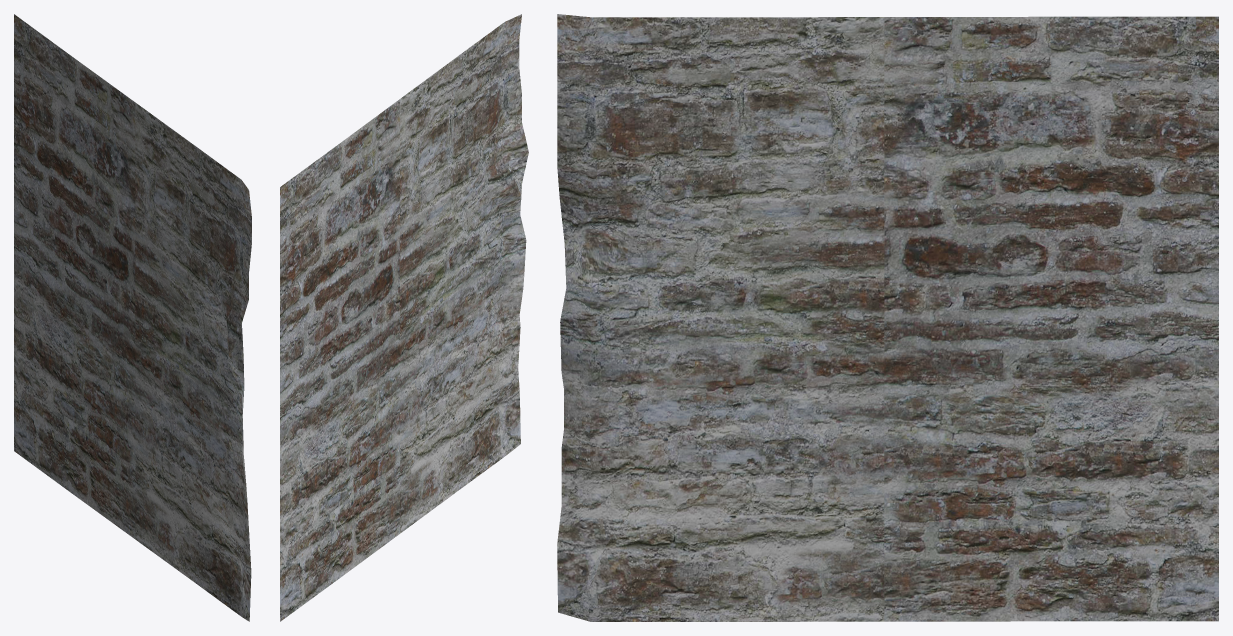
Rendered from 2dwall_leftside.FBX.
3 renders of one model, left to right at view 1: azimuth 30°, elevation 25°; view 2: azimuth 150°, elevation 25°; view 3: azimuth 270°, elevation 25°, orthographic. The views are drawn at different scales.
Visible parts, largest first — view 1: 2dwall_leftside; view 2: 2dwall_leftside; view 3: 2dwall_leftside.
Part boxes in pixels (x1=…): 2dwall_leftside: x1=14, y1=14, x2=251, y2=621; 2dwall_leftside: x1=280, y1=14, x2=528, y2=621; 2dwall_leftside: x1=557, y1=14, x2=1218, y2=621.
Bounding box in the file's own units: 16.62 × 397 × 400.
